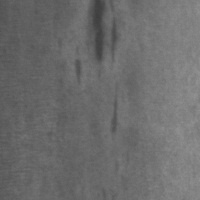inclusion: (86, 1, 124, 79), (105, 84, 124, 139), (70, 45, 85, 87)
